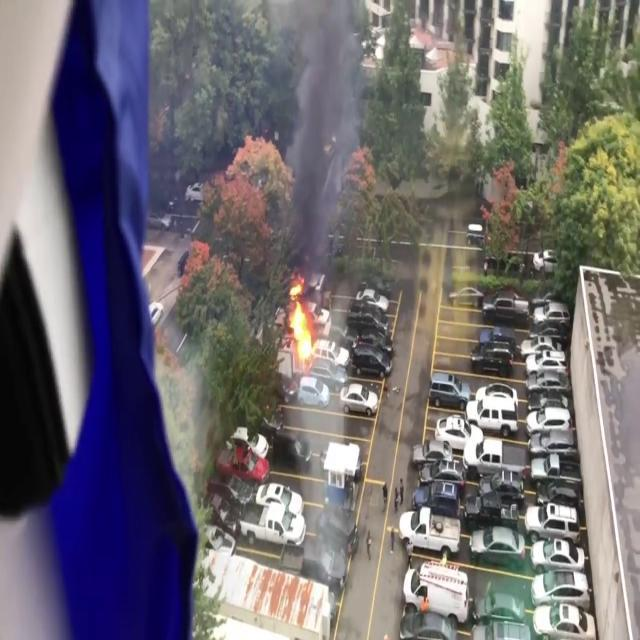Fire: (281, 276, 319, 362)
Smoke: (276, 1, 370, 271)
